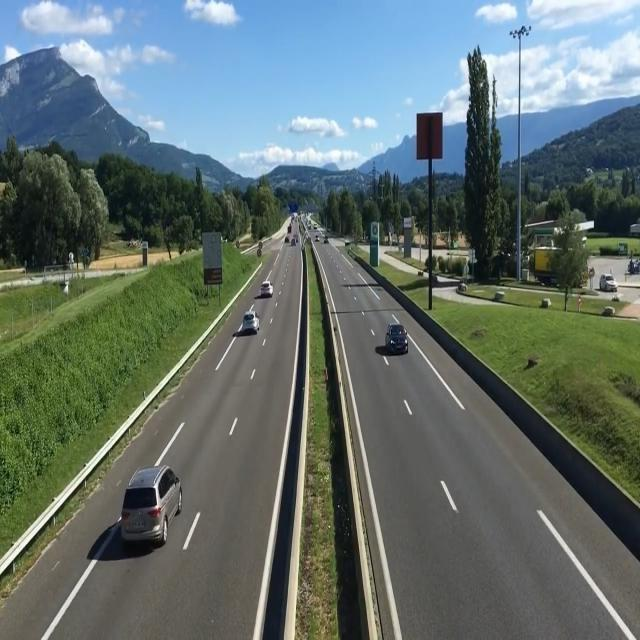Car: (104, 459, 188, 553), (377, 312, 411, 362), (239, 306, 264, 337), (254, 278, 276, 299), (312, 234, 323, 245)
